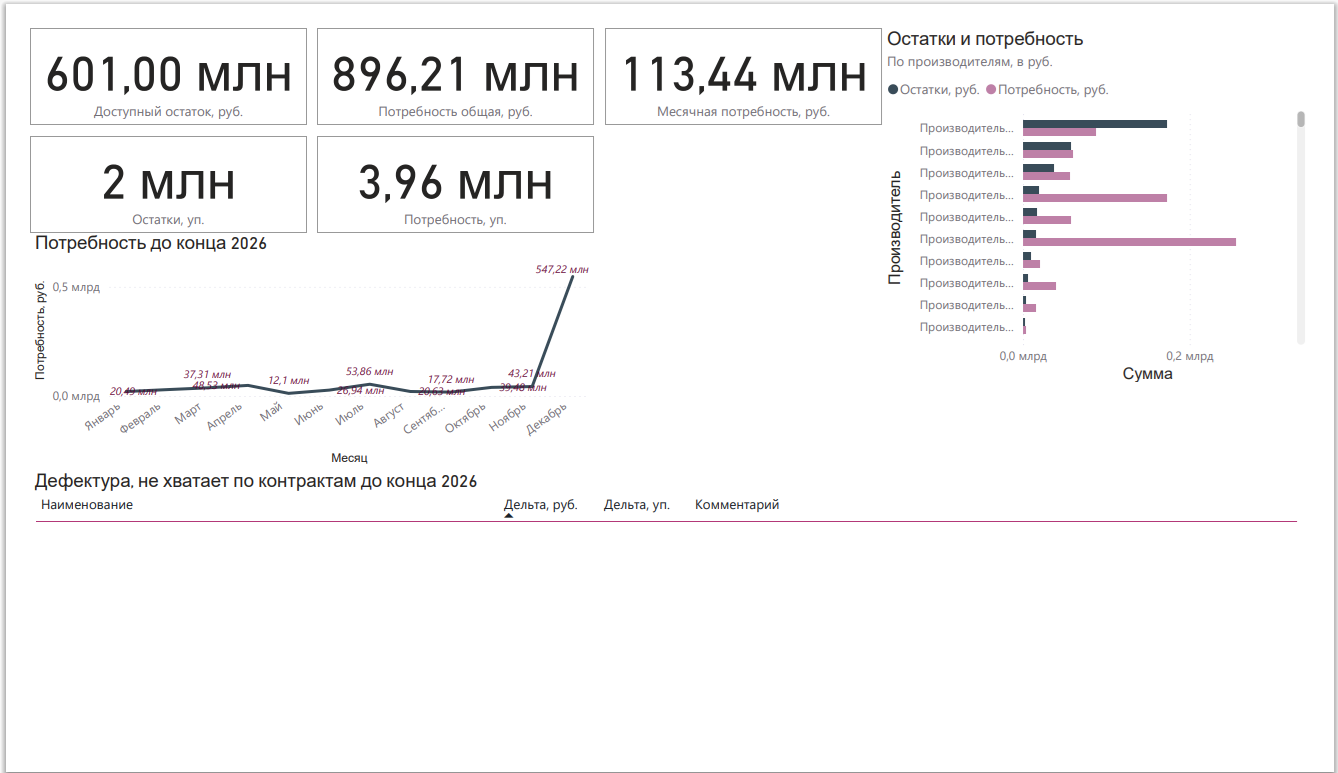

The page's visual inventory and layout, read from the dashboard file:
{"tool":"powerbi","page":{"name":"2026","canvas":[1280,720],"ordinal":2},"visuals":[{"type":"lineChart","title":"Потребность до конца 2026","fields":{"Y":["Sum(Данные (2).Потребность, руб.)"],"Category":["Данные (2).Договор до.Изменение.Иерархия дат.Год","Данные (2).Договор до.Изменение.Иерархия дат.Месяц","Данные (2).Договор до.Изменение.Иерархия дат.День"]},"box":[0,204.5,564.3,236.8],"z":0},{"type":"card","fields":{"Values":["Sum(Данные (2).Потребность, руб.)"]},"box":[287.4,0,277,97.3],"z":1000},{"type":"card","fields":{"Values":["Данные (2).Потребность в месяц"]},"box":[574.9,0,277,97.3],"z":2000},{"type":"card","fields":{"Values":["Sum(Данные (2).Потребность, уп.)"]},"box":[287.4,107.8,277,97.3],"z":3000},{"type":"card","fields":{"Values":["Данные (2).Доступный остаток, руб."]},"box":[0,0,277,97.3],"z":4000},{"type":"card","fields":{"Values":["Sum(Данные (2).Остатки, уп.)"]},"box":[0,107.8,277,97.3],"z":5000},{"type":"clusteredBarChart","title":"Остатки и потребность","fields":{"Category":["Данные (2).Производитель"],"Y":["Sum(Данные (2).Остатки, руб.)","Sum(Данные (2).Потребность, руб.)"]},"box":[851.8,0,428.2,359.3],"z":6000},{"type":"tableEx","title":"Дефектура, не хватает по контрактам до конца 2026","fields":{"Values":["Данные (2).Наименование полное","Sum(Данные (2).Дельта Остатки - Потребность, руб.)","Sum(Данные (2).Дельта Остатки - Потребность, уп.)","Данные (2).Комментарий"]},"box":[0,441.5,1272.5,278.5],"z":7000}]}

Visuals, with their boxes in screenshot pixels (x1, y1, x2, y2), scaled from the page's 1280x720 canvas onto the 1338x773 screenshot:
"Потребность до конца 2026" lineChart: 0,220,590,474
card - Sum(Данные (2).Потребность, руб.): 300,0,590,104
card - Данные (2).Потребность в месяц: 601,0,891,104
card - Sum(Данные (2).Потребность, уп.): 300,116,590,220
card - Данные (2).Доступный остаток, руб.: 0,0,290,104
card - Sum(Данные (2).Остатки, уп.): 0,116,290,220
"Остатки и потребность" clusteredBarChart: 890,0,1337,386
"Дефектура, не хватает по контрактам до конца 2026" tableEx: 0,474,1330,772
